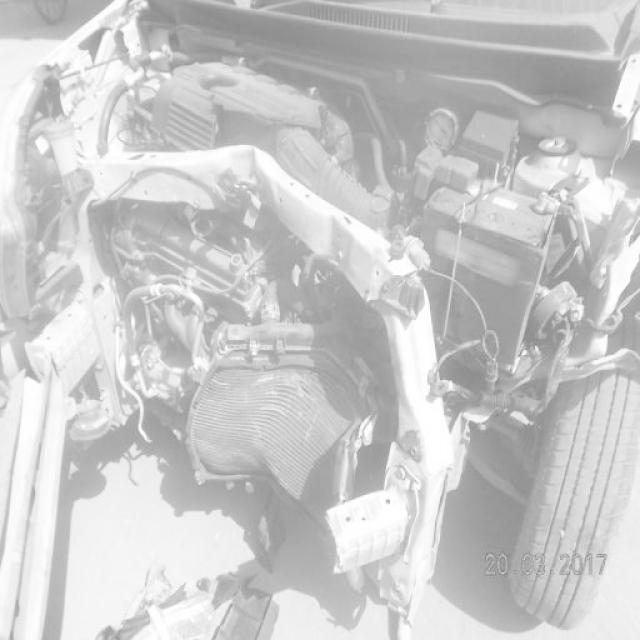car damage: (13, 120, 640, 619)
